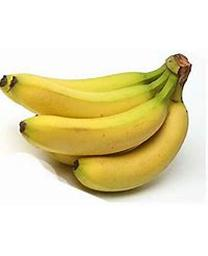banana: (16, 52, 191, 192)
